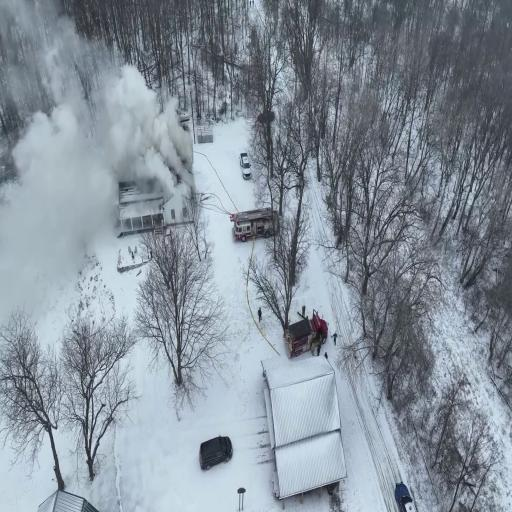smoke: (105, 91, 181, 153)
